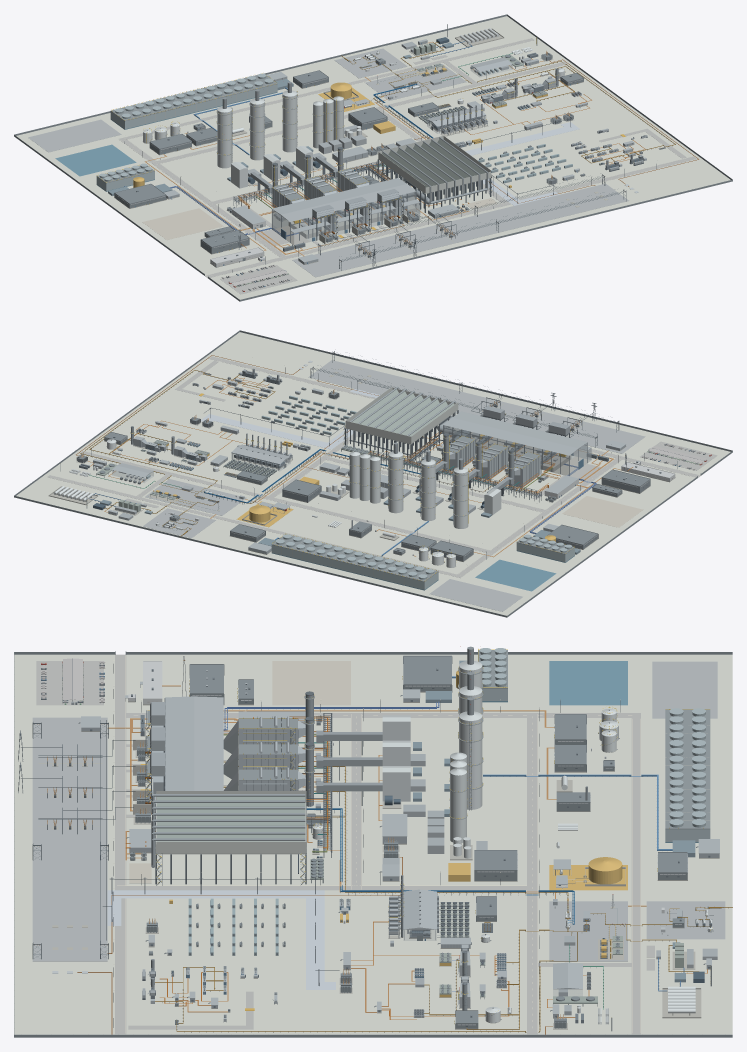
The picture shows the model from 3 angles, top to bottom: view 1: azimuth 30°, elevation 25°; view 2: azimuth 150°, elevation 25°; view 3: azimuth 270°, elevation 25°; orthographic projection. The views are drawn at different scales.
Visible parts, largest first — view 1: SITE__site-0001_Compound__2_420_x_1_920_ft__107_acres_, BASE_SWITCHYARD__base_switchyard-0172_230_kV_switchyard__gravel_, BASE_POWER_BLOCK__base_power_block-0080_Air_cooled_condenser__80, OPT_CCSU__opt_ccsu-0287_CCS_cooling_tower___30_cells___CCS_proce, SITE__site-0012_Perimeter_fence__8_ft_, HALL_ROOF__base_power_block-0014_Common_turbine_hall, BASE_POWER_BLOCK__base_power_block-0014_Common_turbine_hall, SITE__site-0002_30_ft_access_road, BASE_UTILITIES__base_utilities-0224_Plant_gas_yard__pad_, OPT_MODX__opt_modx-0420_Maintenance_laydown__gravel_, BASE_SERVICES__base_services-0212_Cable_reel_yard___outage_laydo, BASE_SERVICES__base_services-0213_Stormwater_basin (+26 smaller); view 2: SITE__site-0001_Compound__2_420_x_1_920_ft__107_acres_, BASE_SWITCHYARD__base_switchyard-0172_230_kV_switchyard__gravel_, BASE_POWER_BLOCK__base_power_block-0080_Air_cooled_condenser__80, OPT_CCSU__opt_ccsu-0287_CCS_cooling_tower___30_cells___CCS_proce, SITE__site-0012_Perimeter_fence__8_ft_, HALL_ROOF__base_power_block-0014_Common_turbine_hall, BASE_POWER_BLOCK__base_power_block-0014_Common_turbine_hall, SITE__site-0006_30_ft_utilities_road, BASE_UTILITIES__base_utilities-0224_Plant_gas_yard__pad_, OPT_MODX__opt_modx-0420_Maintenance_laydown__gravel_, BASE_SERVICES__base_services-0212_Cable_reel_yard___outage_laydo, BASE_SERVICES__base_services-0213_Stormwater_basin (+28 smaller); view 3: SITE__site-0001_Compound__2_420_x_1_920_ft__107_acres_, BASE_SWITCHYARD__base_switchyard-0172_230_kV_switchyard__gravel_, BASE_POWER_BLOCK__base_power_block-0080_Air_cooled_condenser__80, OPT_CCSU__opt_ccsu-0287_CCS_cooling_tower___30_cells___CCS_proce, HALL_ROOF__base_power_block-0014_Common_turbine_hall, SITE__site-0012_Perimeter_fence__8_ft_, SITE__site-0002_30_ft_access_road, BASE_UTILITIES__base_utilities-0224_Plant_gas_yard__pad_, BASE_SERVICES__base_services-0213_Stormwater_basin, SITE__site-0006_30_ft_utilities_road, BASE_SERVICES__base_services-0212_Cable_reel_yard___outage_laydo, OPT_MODX__opt_modx-0420_Maintenance_laydown__gravel_ (+36 smaller).
Part boxes in pixels (x1,y1,x2,y2): SITE__site-0001_Compound__2_420_x_1_920_ft__107_acres_: [16, 16, 732, 301]; BASE_SWITCHYARD__base_switchyard-0172_230_kV_switchyard__gravel_: [292, 183, 628, 277]; BASE_POWER_BLOCK__base_power_block-0080_Air_cooled_condenser__80: [377, 135, 493, 212]; OPT_CCSU__opt_ccsu-0287_CCS_cooling_tower___30_cells___CCS_proce: [110, 73, 277, 129]; SITE__site-0012_Perimeter_fence__8_ft_: [14, 14, 732, 301]; HALL_ROOF__base_power_block-0014_Common_turbine_hall: [272, 178, 420, 233]; BASE_POWER_BLOCK__base_power_block-0014_Common_turbine_hall: [272, 191, 420, 245]; SITE__site-0002_30_ft_access_road: [205, 156, 696, 277]; BASE_UTILITIES__base_utilities-0224_Plant_gas_yard__pad_: [365, 64, 466, 100]; OPT_MODX__opt_modx-0420_Maintenance_laydown__gravel_: [28, 119, 121, 152]; BASE_SERVICES__base_services-0212_Cable_reel_yard___outage_laydo: [142, 208, 223, 239]; BASE_SERVICES__base_services-0213_Stormwater_basin: [55, 144, 136, 176]; SITE__site-0001_Compound__2_420_x_1_920_ft__107_acres_: [14, 332, 730, 617]; BASE_SWITCHYARD__base_switchyard-0172_230_kV_switchyard__gravel_: [308, 360, 645, 453]; BASE_POWER_BLOCK__base_power_block-0080_Air_cooled_condenser__80: [343, 386, 458, 463]; OPT_CCSU__opt_ccsu-0287_CCS_cooling_tower___30_cells___CCS_proce: [271, 533, 438, 590]; SITE__site-0012_Perimeter_fence__8_ft_: [14, 330, 732, 617]; HALL_ROOF__base_power_block-0014_Common_turbine_hall: [443, 411, 591, 455]; BASE_POWER_BLOCK__base_power_block-0014_Common_turbine_hall: [443, 425, 591, 475]; SITE__site-0006_30_ft_utilities_road: [79, 451, 495, 554]; BASE_UTILITIES__base_utilities-0224_Plant_gas_yard__pad_: [145, 479, 246, 515]; OPT_MODX__opt_modx-0420_Maintenance_laydown__gravel_: [430, 579, 522, 611]; BASE_SERVICES__base_services-0212_Cable_reel_yard___outage_laydo: [562, 496, 643, 527]; BASE_SERVICES__base_services-0213_Stormwater_basin: [475, 559, 556, 591]; SITE__site-0001_Compound__2_420_x_1_920_ft__107_acres_: [14, 654, 732, 1034]; BASE_SWITCHYARD__base_switchyard-0172_230_kV_switchyard__gravel_: [32, 717, 107, 961]; BASE_POWER_BLOCK__base_power_block-0080_Air_cooled_condenser__80: [155, 791, 306, 885]; OPT_CCSU__opt_ccsu-0287_CCS_cooling_tower___30_cells___CCS_proce: [665, 708, 710, 842]; HALL_ROOF__base_power_block-0014_Common_turbine_hall: [152, 696, 223, 806]; SITE__site-0012_Perimeter_fence__8_ft_: [14, 652, 732, 1037]; SITE__site-0002_30_ft_access_road: [115, 654, 126, 1034]; BASE_UTILITIES__base_utilities-0224_Plant_gas_yard__pad_: [549, 900, 627, 961]; BASE_SERVICES__base_services-0213_Stormwater_basin: [549, 661, 627, 705]; SITE__site-0006_30_ft_utilities_road: [527, 713, 537, 1034]; BASE_SERVICES__base_services-0212_Cable_reel_yard___outage_laydo: [272, 661, 350, 705]; OPT_MODX__opt_modx-0420_Maintenance_laydown__gravel_: [652, 661, 717, 718].
Bounding box in the file's own units: 2420 × 321 × 1921.
